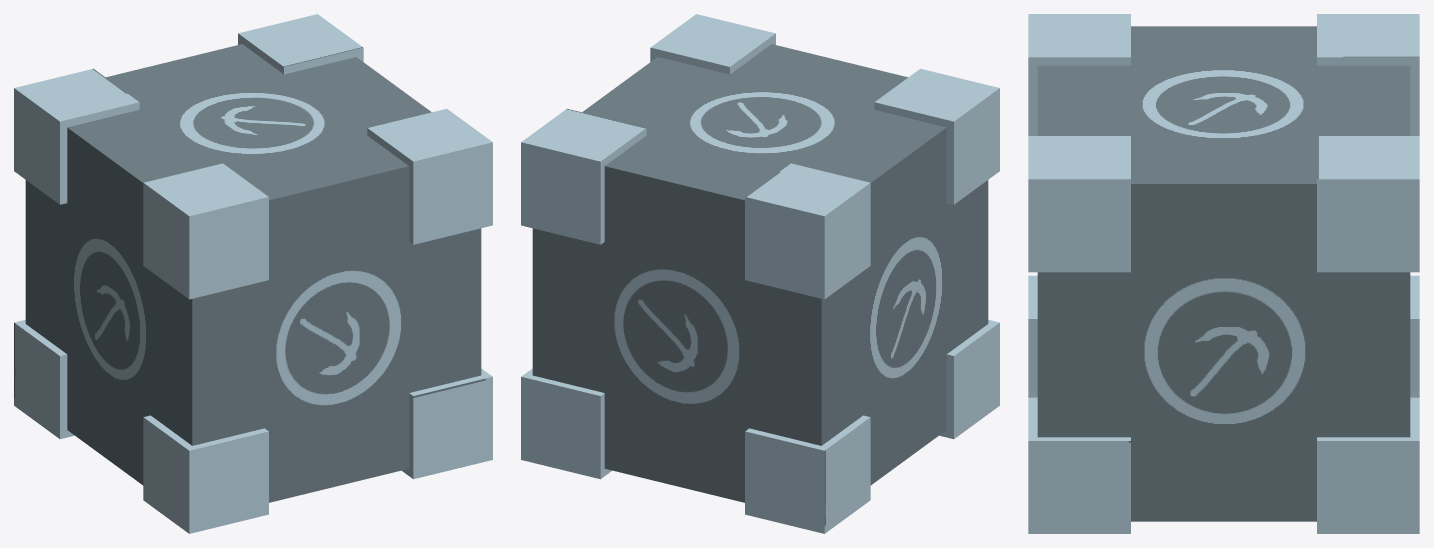
The model's file is box_resources.fbx.
The picture shows the model from 3 angles, left to right: view 1: azimuth 30°, elevation 25°; view 2: azimuth 150°, elevation 25°; view 3: azimuth 270°, elevation 25°; orthographic projection. The views are drawn at different scales.
Visible parts, largest first — view 1: Cube; view 2: Cube; view 3: Cube.
Part boxes in pixels (x1,y1,x2,y2): Cube: (14,14,492,533); Cube: (521,14,999,533); Cube: (1028,14,1419,533).
Size of the model in its own units: 210 by 210 by 210.
